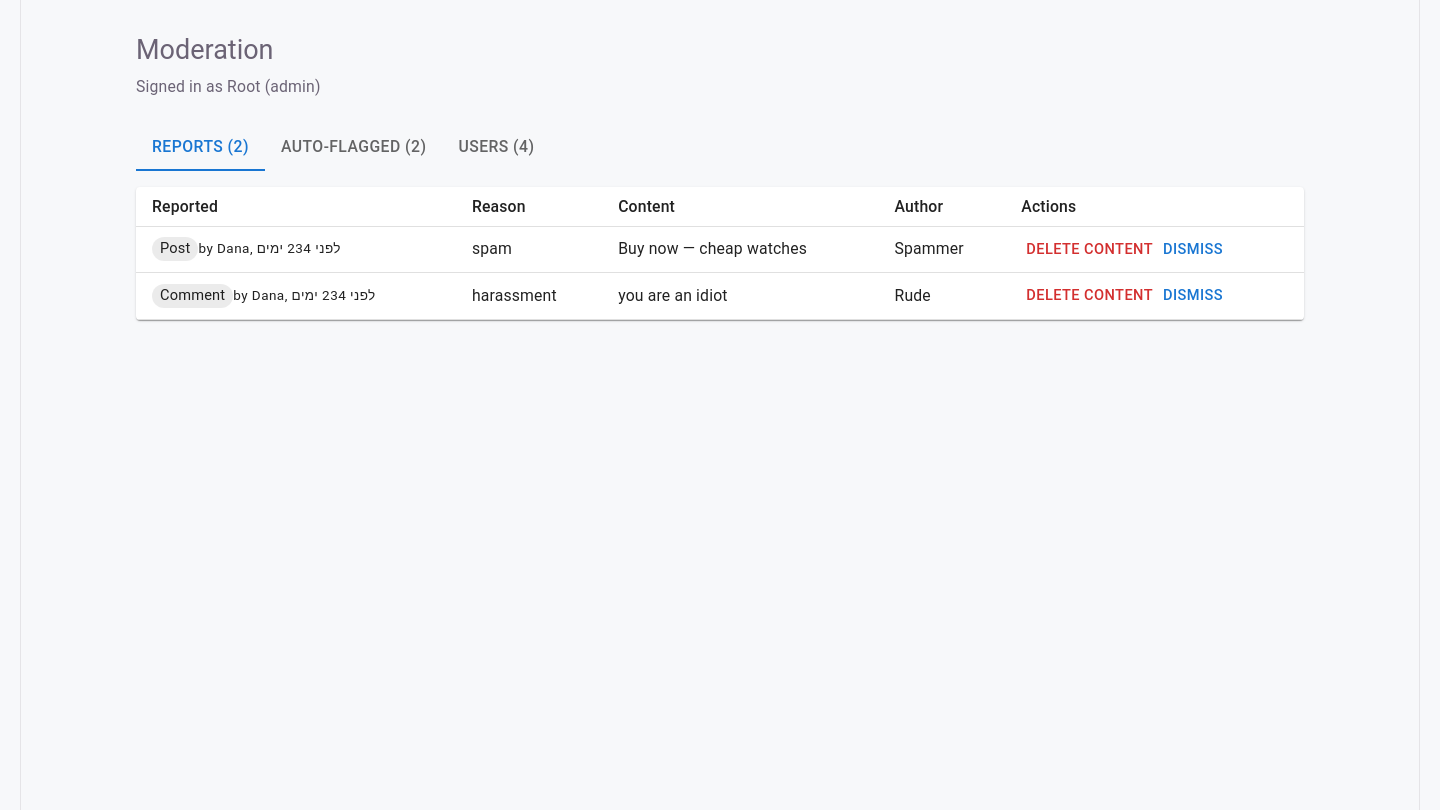
Test case: AdminDashboard — the three tabs › lists automatically held content with its score
The width and height of the screenshot is (1440, 810).
Click the tab "Auto-flagged (2)": (354, 146) [265,122,442,170]
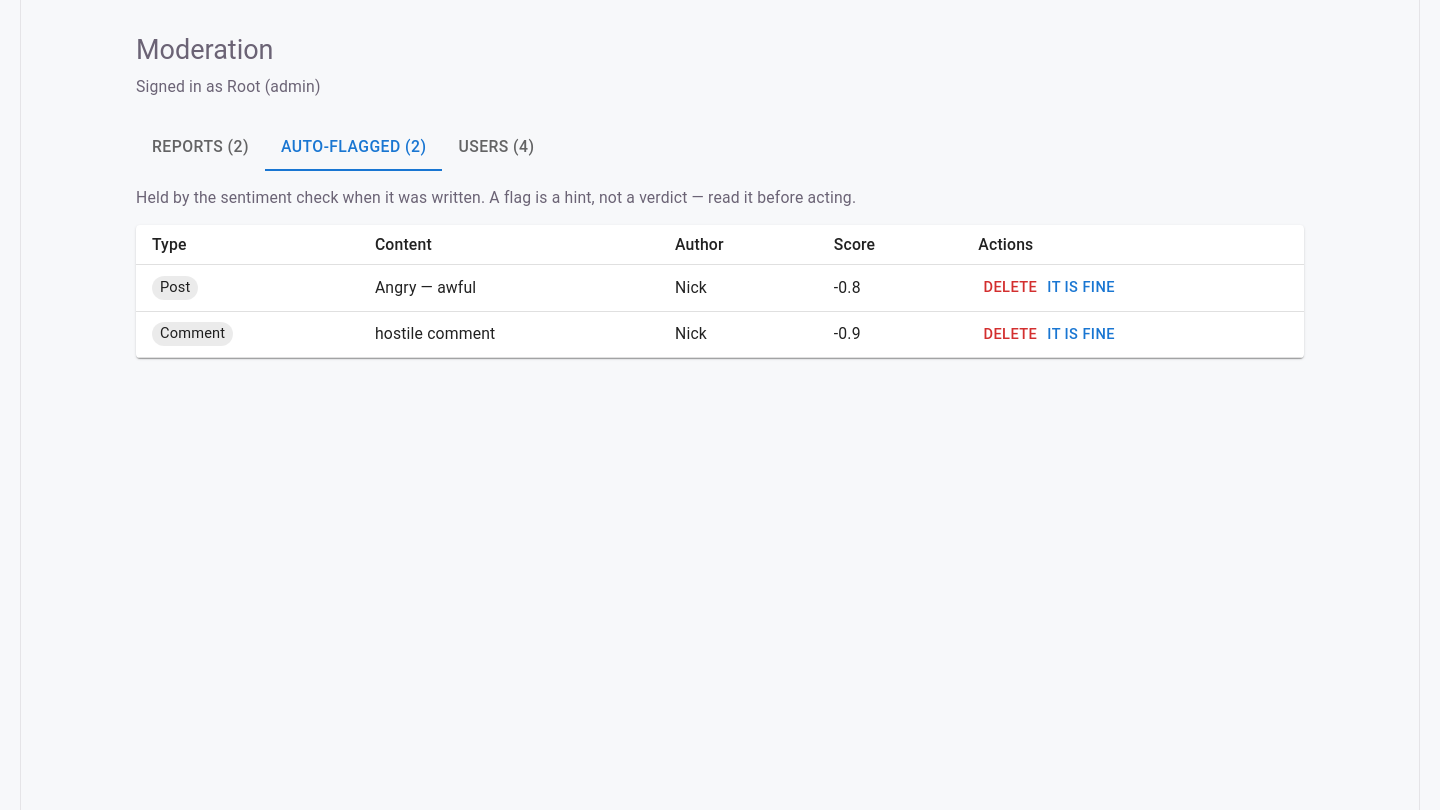
Expected: the text "Angry — awful" is shown, [359,264,659,311]
Expected: the text "hostile comment" is shown, [359,311,659,358]
Expected: the text "-0.8" is shown, [818,264,962,311]
